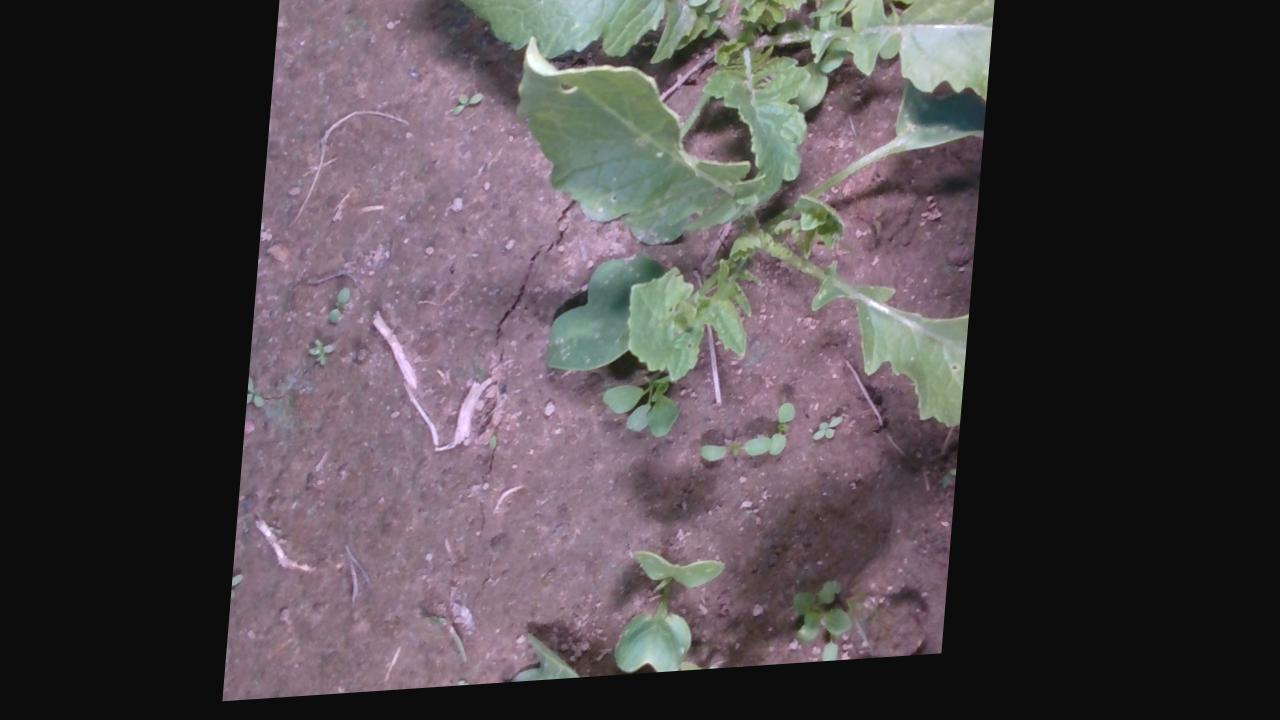weed: (453, 96, 488, 125), (312, 341, 344, 372), (334, 290, 357, 330), (819, 426, 853, 453), (469, 684, 485, 692)
